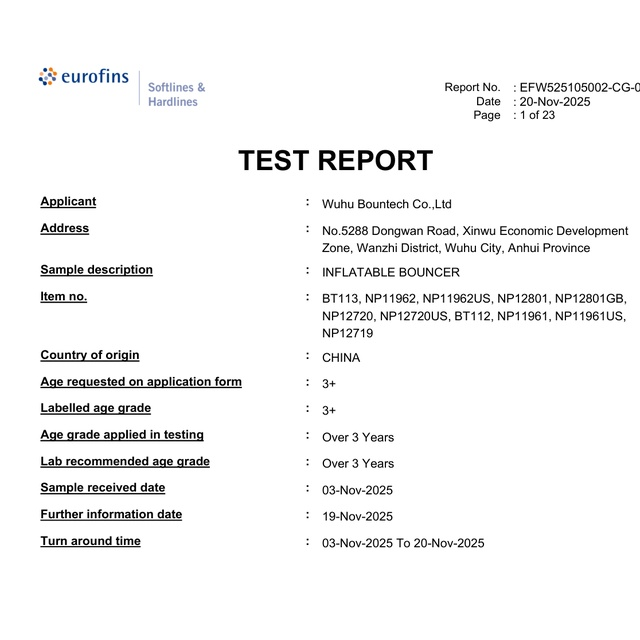eurofins: (38, 60, 131, 92)
